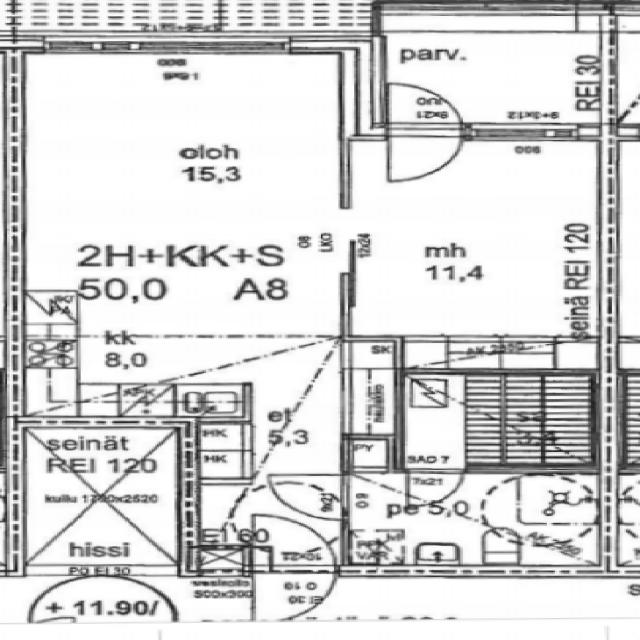door: (254, 566, 335, 626), (254, 516, 335, 576), (388, 78, 461, 140), (388, 123, 461, 185), (266, 475, 349, 520), (407, 469, 462, 508)
